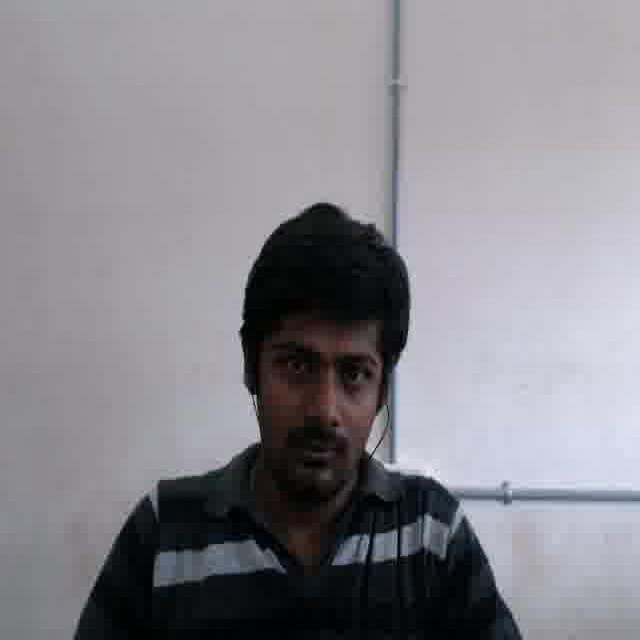Engaged: (258, 306, 378, 498)
